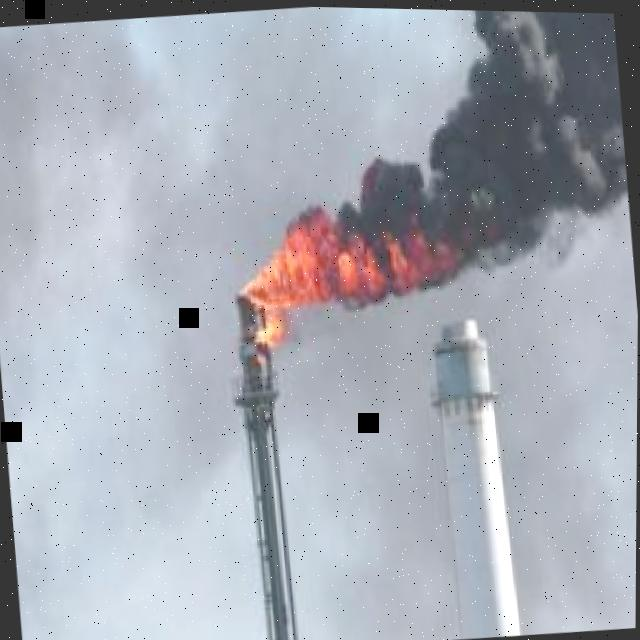fire: (239, 207, 461, 343)
smoke: (0, 5, 486, 640), (271, 190, 638, 640), (333, 8, 628, 290)
